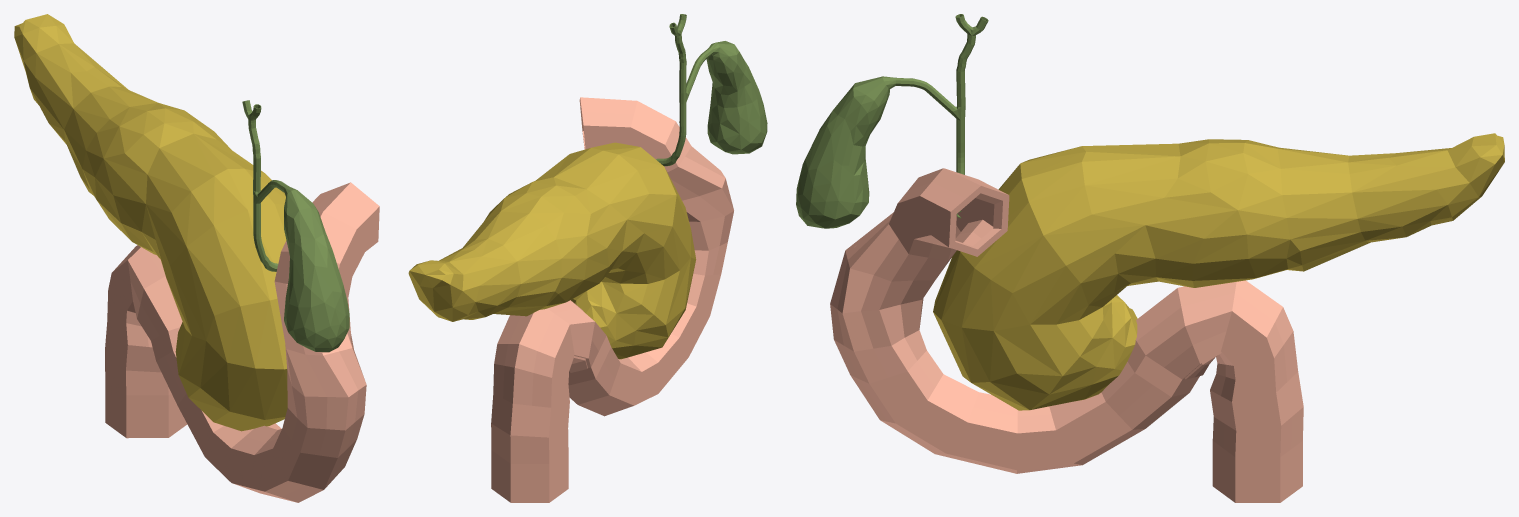
File: Pancreas.fbx
3 renders of one model, left to right at view 1: azimuth 30°, elevation 25°; view 2: azimuth 150°, elevation 25°; view 3: azimuth 270°, elevation 25°, orthographic. The views are drawn at different scales.
Parts seen in each view (by area): view 1: Pancreas; view 2: Pancreas; view 3: Pancreas.
Part boxes in pixels (x1=…): Pancreas: x1=14, y1=14, x2=379, y2=502; Pancreas: x1=408, y1=14, x2=767, y2=502; Pancreas: x1=796, y1=14, x2=1504, y2=502.
Size of the model in its own units: 46.68 by 122 by 172.
